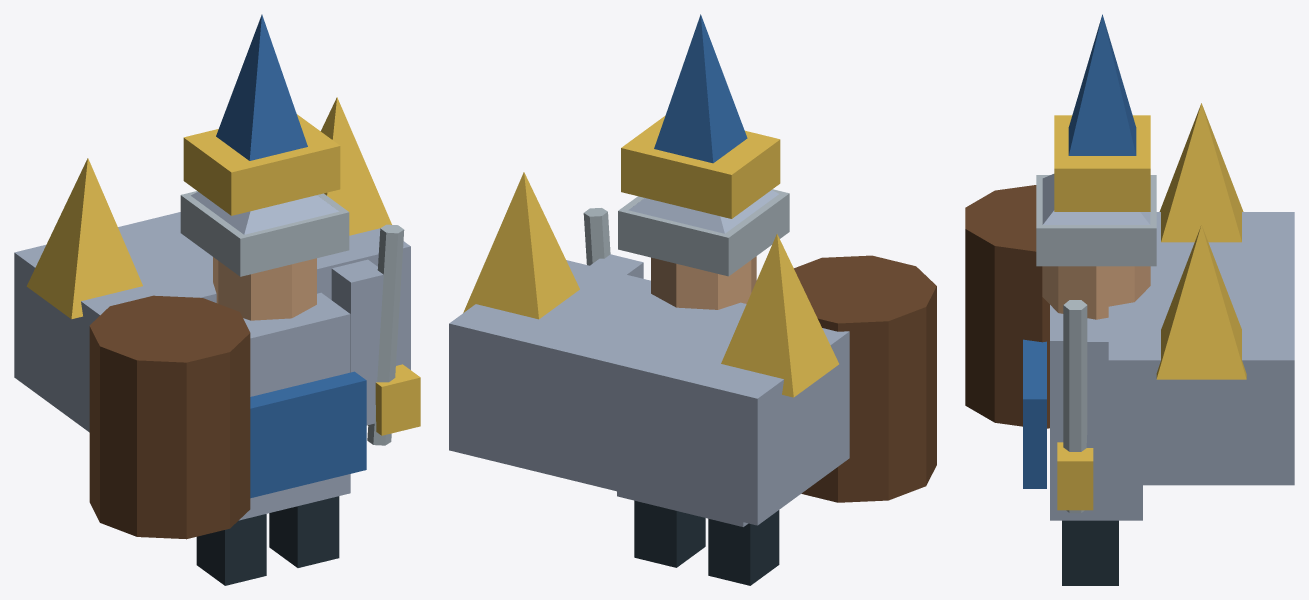
Rendered from heavy-mobile.obj.
The picture shows the model from 3 angles, left to right: view 1: azimuth 30°, elevation 25°; view 2: azimuth 150°, elevation 25°; view 3: azimuth 270°, elevation 25°; orthographic projection.
Parts seen in each view (by area): view 1: infantry; view 2: infantry; view 3: infantry.
Boxes of the visible parts, x1,y1,x2,y2 form: infantry: (14,14,420,585); infantry: (449,14,936,585); infantry: (965,14,1294,585).
Size of the model in its own units: 1.37 by 2 by 1.1.
